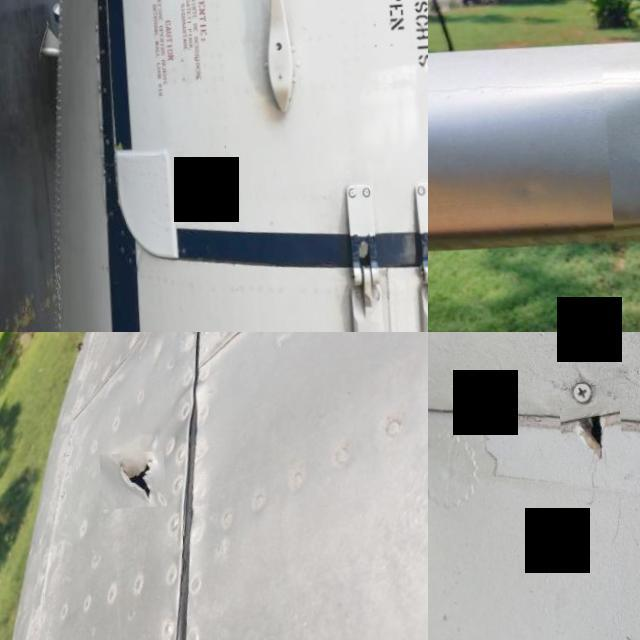Crack: (554, 410, 618, 479), (95, 454, 162, 514), (168, 201, 204, 228)
Dent: (598, 58, 640, 240)
